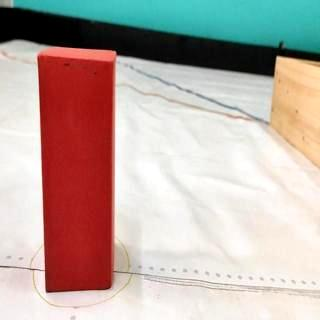redbox: (38, 45, 116, 292)
